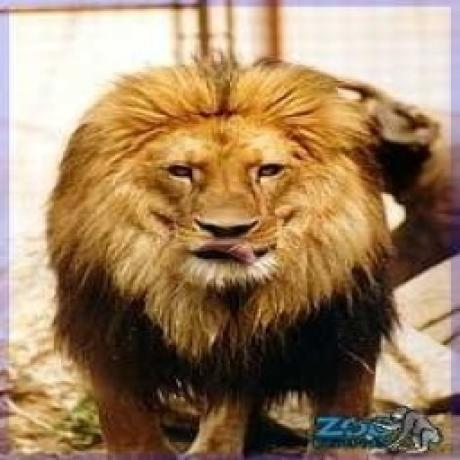Lion: (48, 55, 398, 460)
